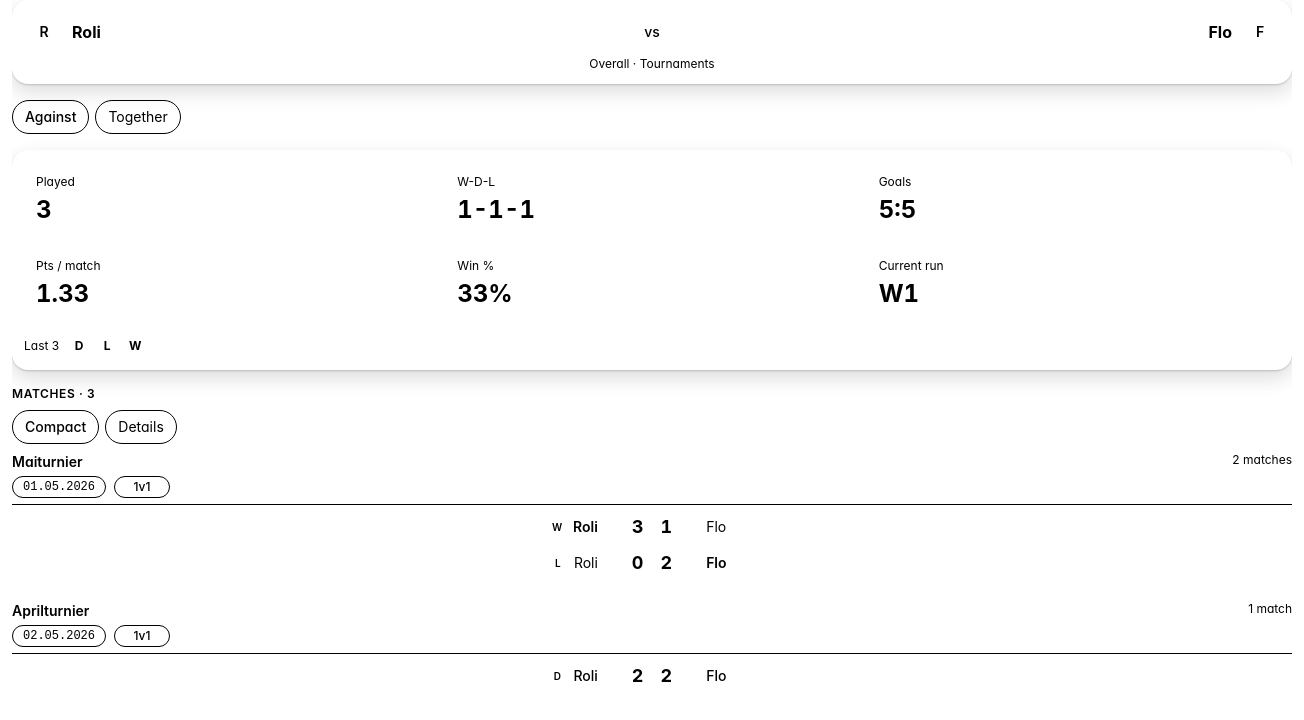
Scenario: MatchupView › switches to the teammates request when Together is picked
expect the text "Matches · 3" is shown: met, box [12, 386, 95, 402]
Click the button "Together". click: [138, 117]
box: [95, 100, 181, 134]
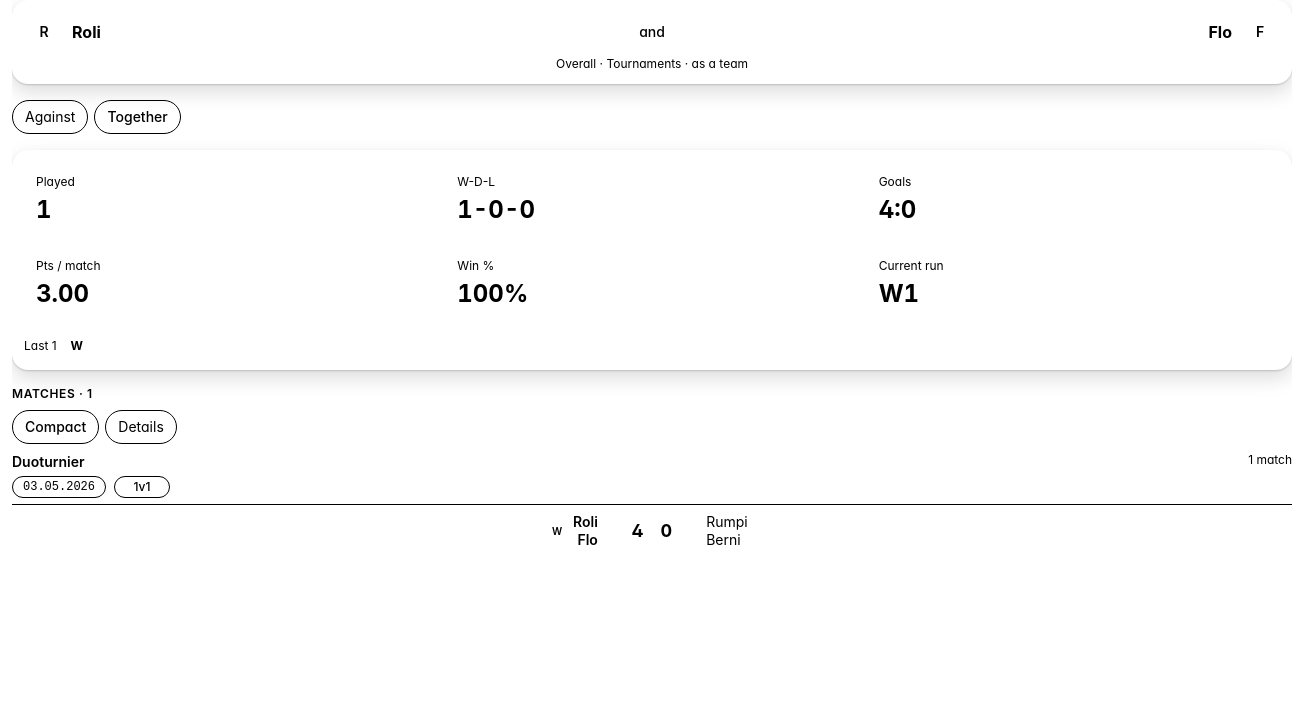
expect the text "Matches · 1" is shown: met, box [12, 386, 93, 402]
expect the text "Duoturnier" is shown: met, box [12, 453, 84, 470]
